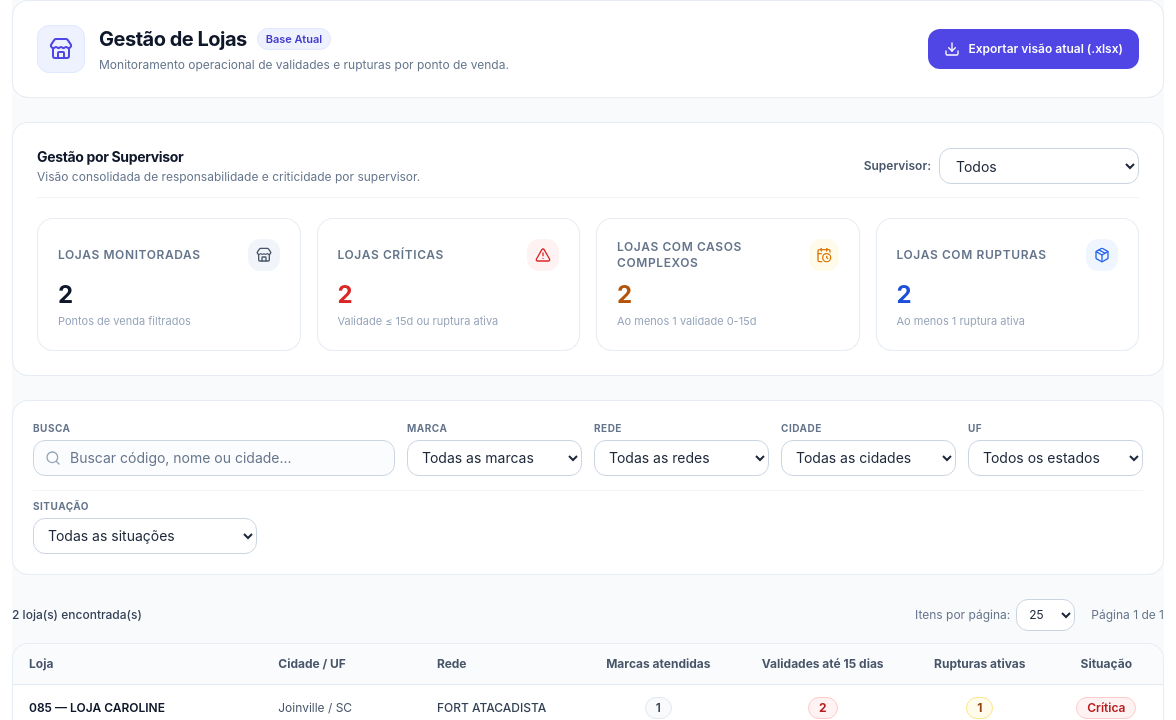
Test case: lojasJourney.test.tsx — Contrato de Regressão da Tela /lojas › 8. Filtro de supervisor reduz lojas na tabela
Expected: the text "085 — LOJA CAROLINE" is shown, [29,700,165,714]
Step 1. Select "Caroline Oliveira" in the dropdown labelled "Supervisor" → (1039, 166), box [939,148,1139,184]
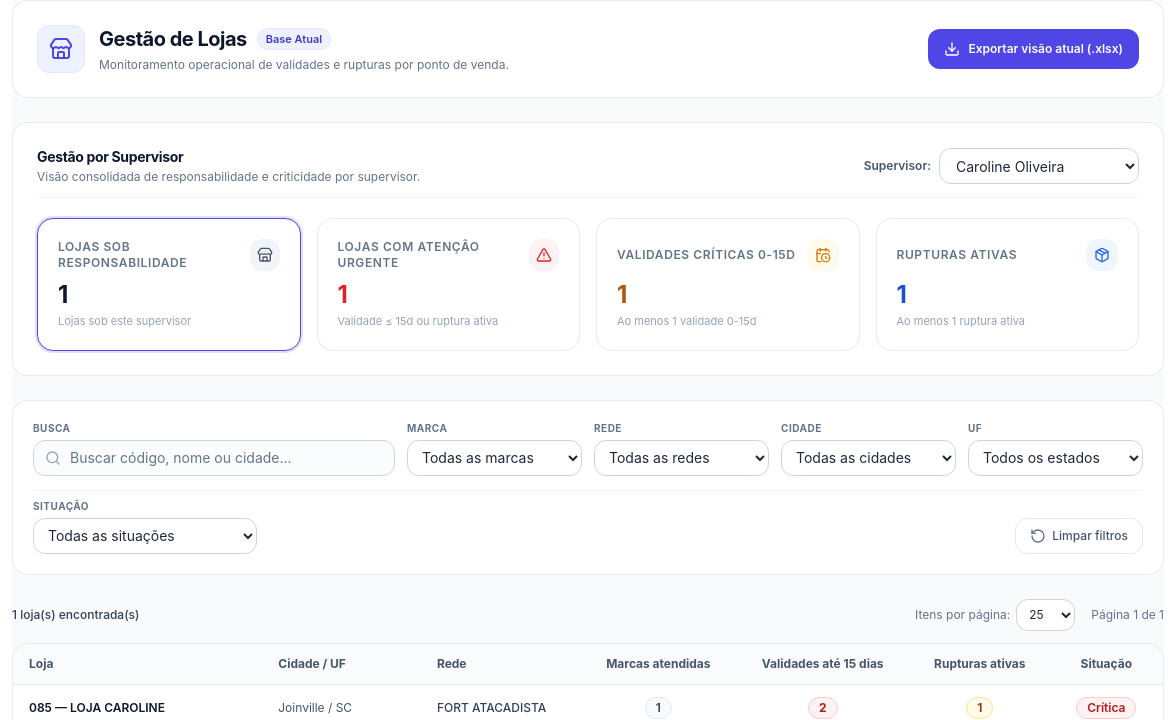
Expected: the text "085 — LOJA CAROLINE" is shown, [29,700,165,714]
Expected: the text "1 loja(s) encontrada(s)" is shown, [12,606,140,622]
